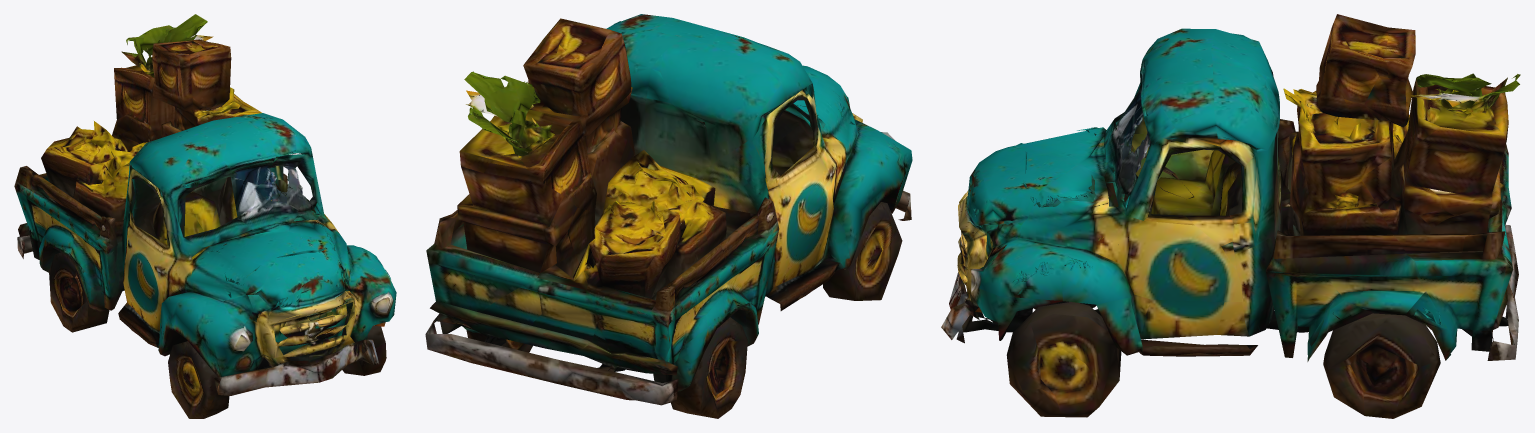
Rendered from pickup-low.glb.
3 renders of one model, left to right at view 1: azimuth 30°, elevation 25°; view 2: azimuth 150°, elevation 25°; view 3: azimuth 270°, elevation 25°, orthographic. The views are drawn at different scales.
Visible parts, largest first — view 1: tripo_node_ea118c77-95d2-4013-a777-2e55901998f1; view 2: tripo_node_ea118c77-95d2-4013-a777-2e55901998f1; view 3: tripo_node_ea118c77-95d2-4013-a777-2e55901998f1.
Part boxes in pixels (left/top/right/bottom): tripo_node_ea118c77-95d2-4013-a777-2e55901998f1: left=14, top=14, right=396, bottom=418; tripo_node_ea118c77-95d2-4013-a777-2e55901998f1: left=425, top=14, right=912, bottom=418; tripo_node_ea118c77-95d2-4013-a777-2e55901998f1: left=941, top=14, right=1520, bottom=418.
Bounding box in the file's own units: 0.5344 × 0.6639 × 0.9946.
1 material, 1 textured.
